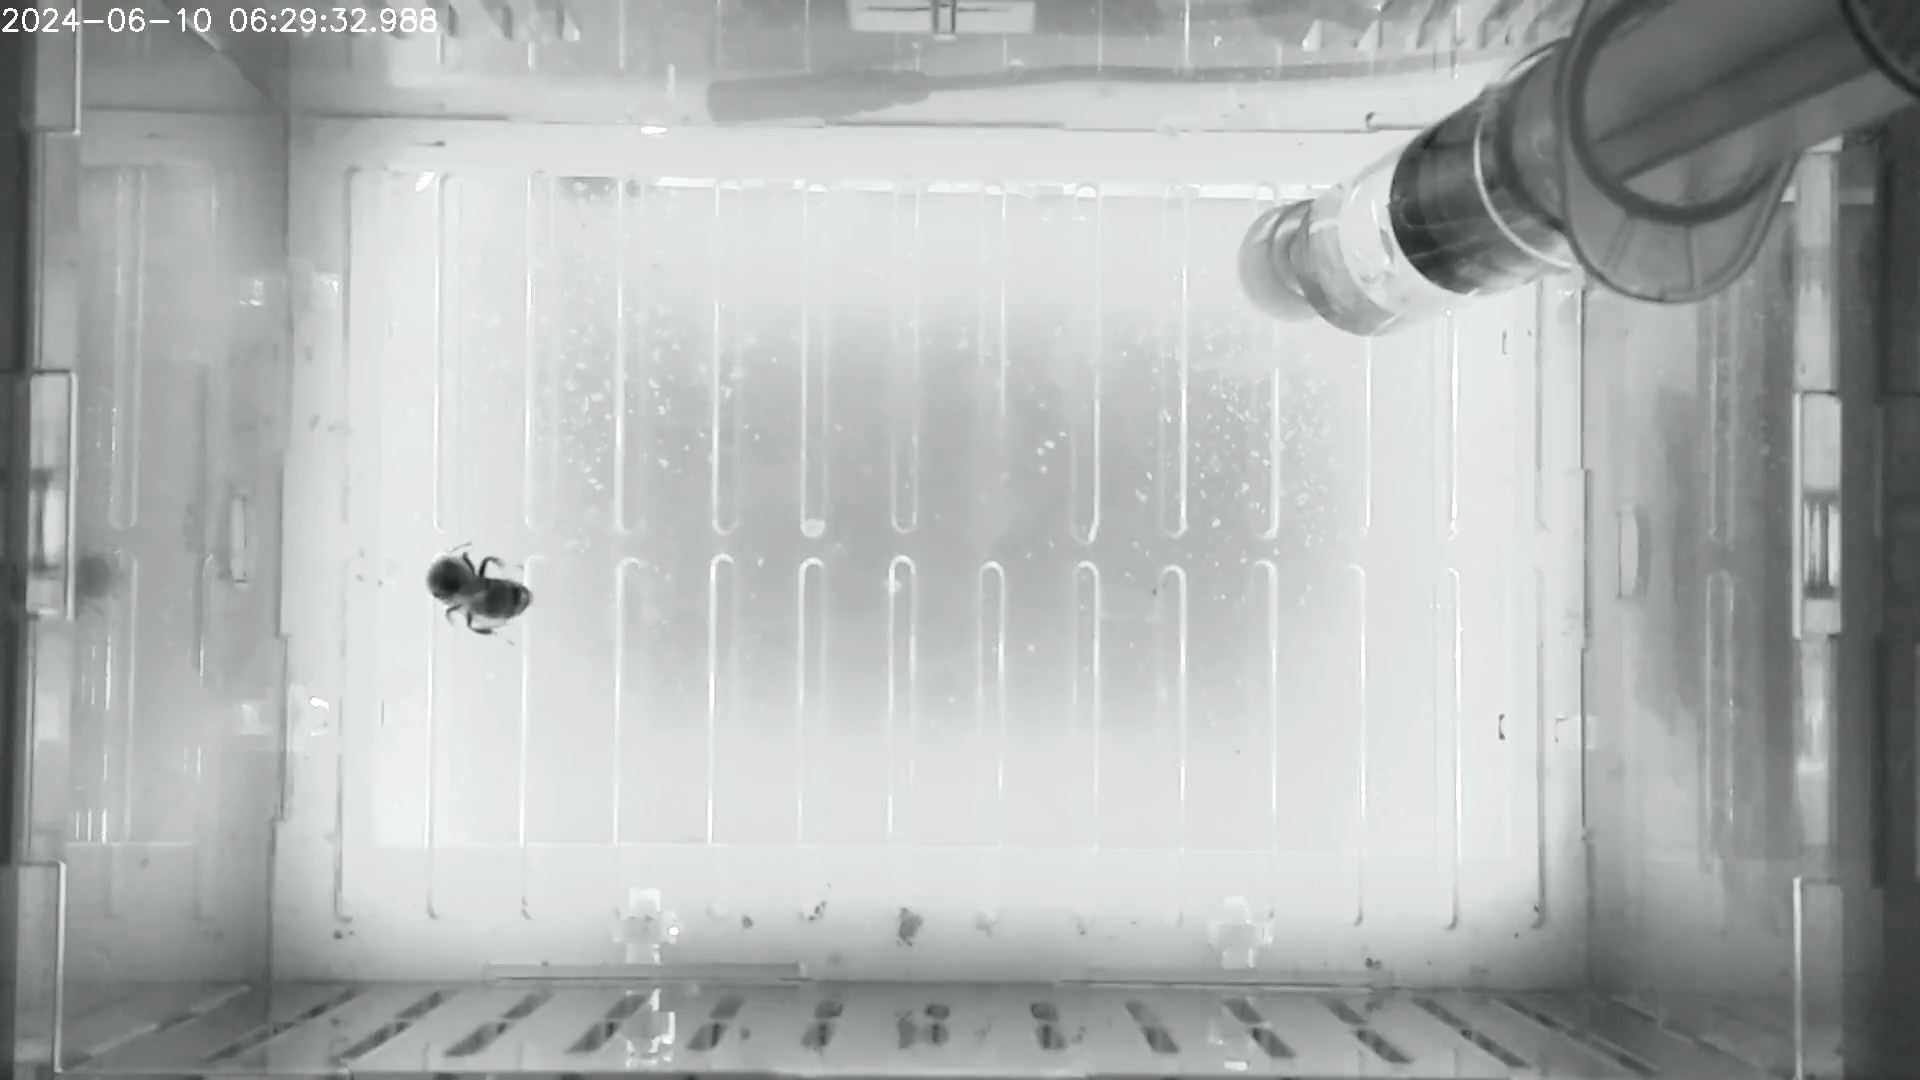bee: (406, 538, 549, 654)
feeder: (1276, 80, 1576, 345)
